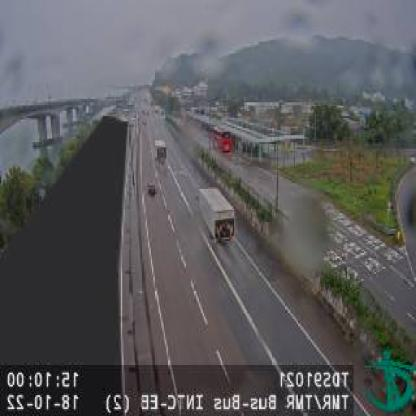Bus: (212, 126, 232, 153)
Car: (146, 180, 158, 197)
Truck: (193, 186, 236, 244), (154, 138, 167, 162)
